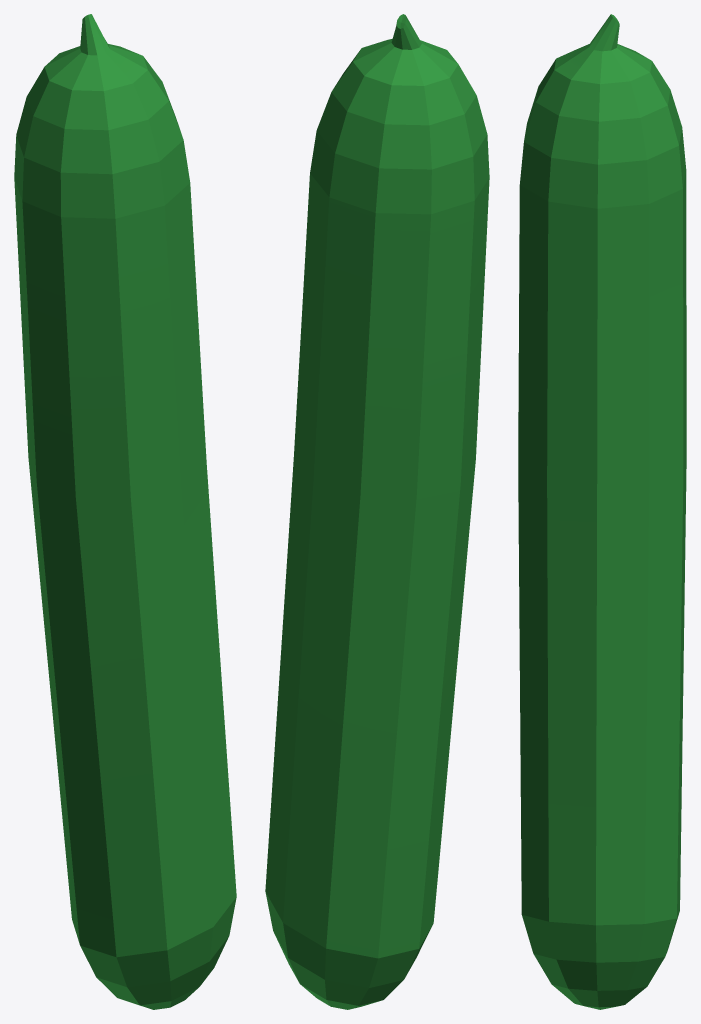
File: Concombre.FBX
3 renders of one model, left to right at view 1: azimuth 30°, elevation 25°; view 2: azimuth 150°, elevation 25°; view 3: azimuth 270°, elevation 25°, orthographic. The views are drawn at different scales.
Visible parts, largest first — view 1: pSphere1; view 2: pSphere1; view 3: pSphere1.
Part boxes in pixels (left/top/right/bottom): pSphere1: left=14, top=14, right=236, bottom=1009; pSphere1: left=265, top=14, right=489, bottom=1009; pSphere1: left=518, top=14, right=686, bottom=1009.
Size of the model in its own units: 1.69 by 8.1 by 1.29.
